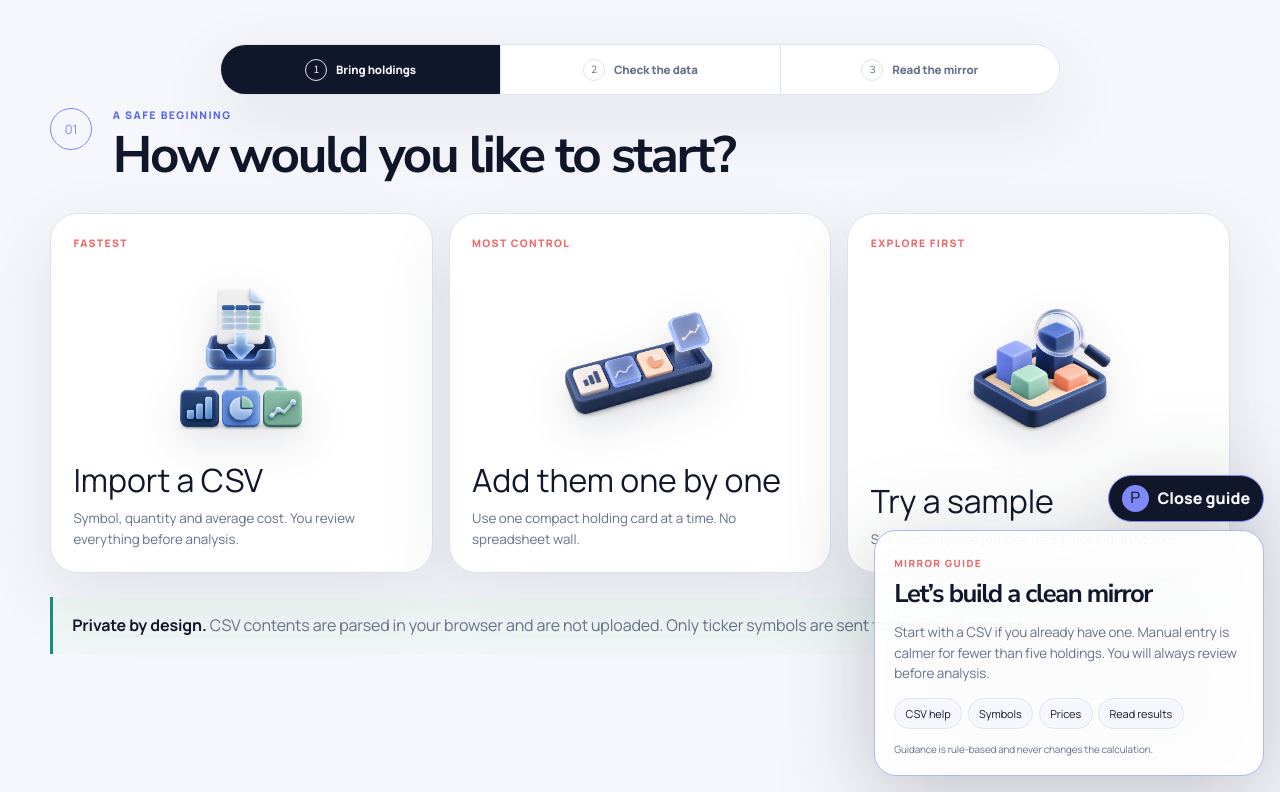
it: Money Mirror journey › reviews holdings, refreshes Yahoo prices, and reveals a concentration read
(page scrolled)
Step 1. Click the button "Try a sample" → x=1039, y=393, box [847, 213, 1230, 573]
(page scrolled)
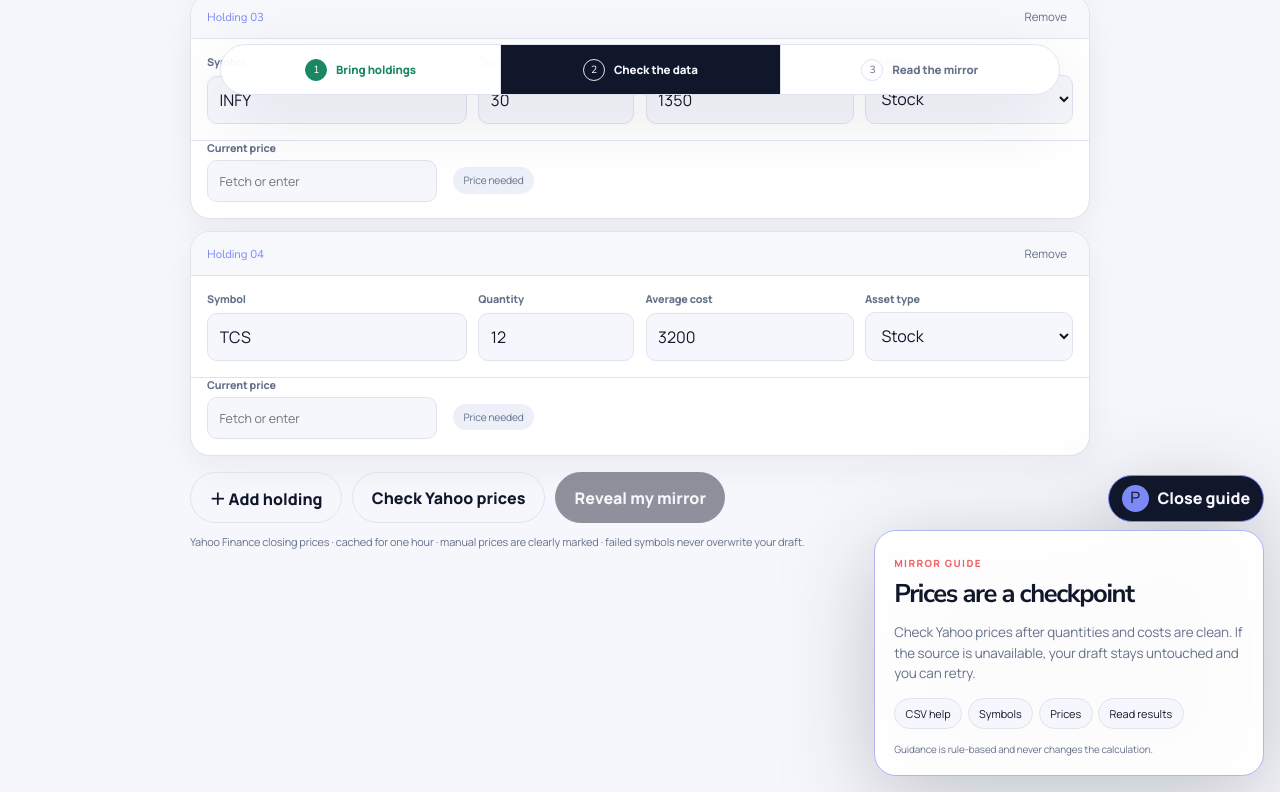
Step 2. Click the button "Check Yahoo prices" → x=448, y=498, box [352, 472, 545, 523]
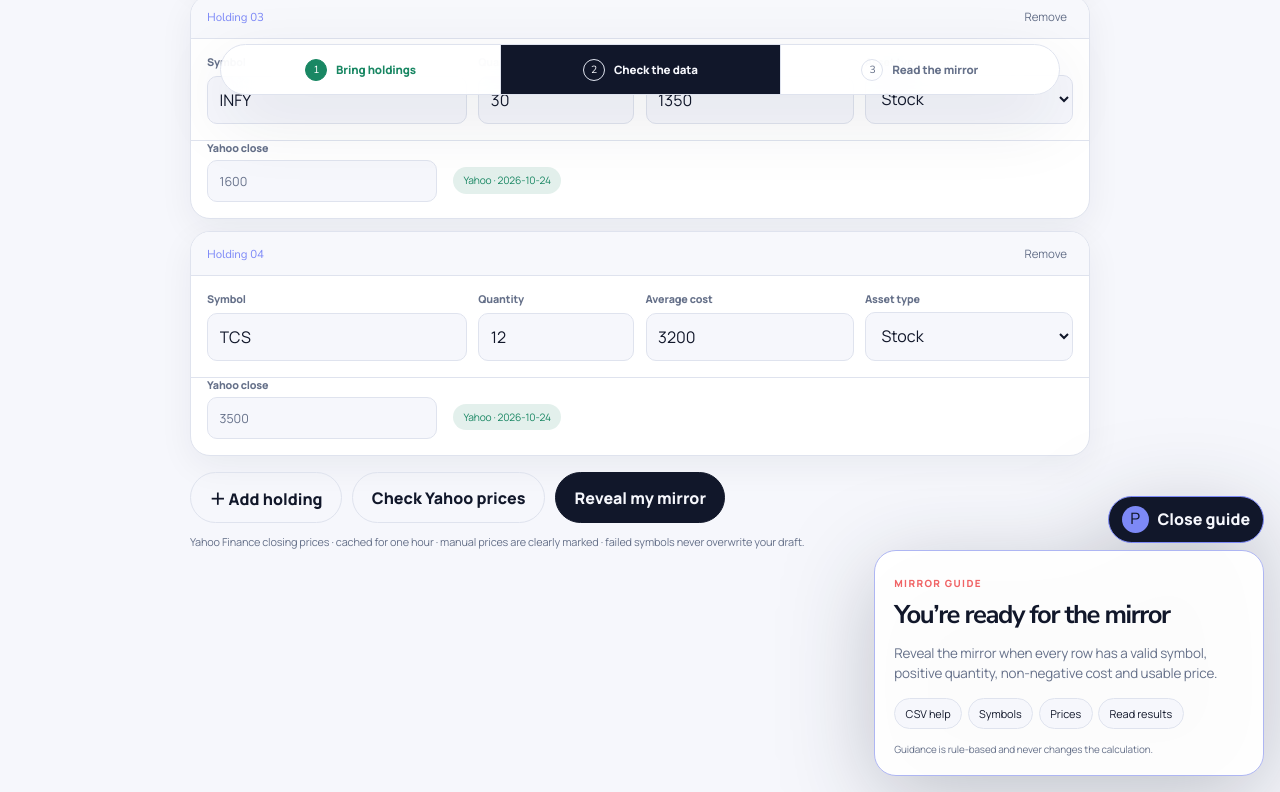
Expected: the text "Yahoo · 2026-10-24" is shown 4 times
Expected: the button "Reveal my mirror" is enabled
Step 3. Click the button "Reveal my mirror" → x=640, y=498, box [555, 472, 725, 523]
(page scrolled)
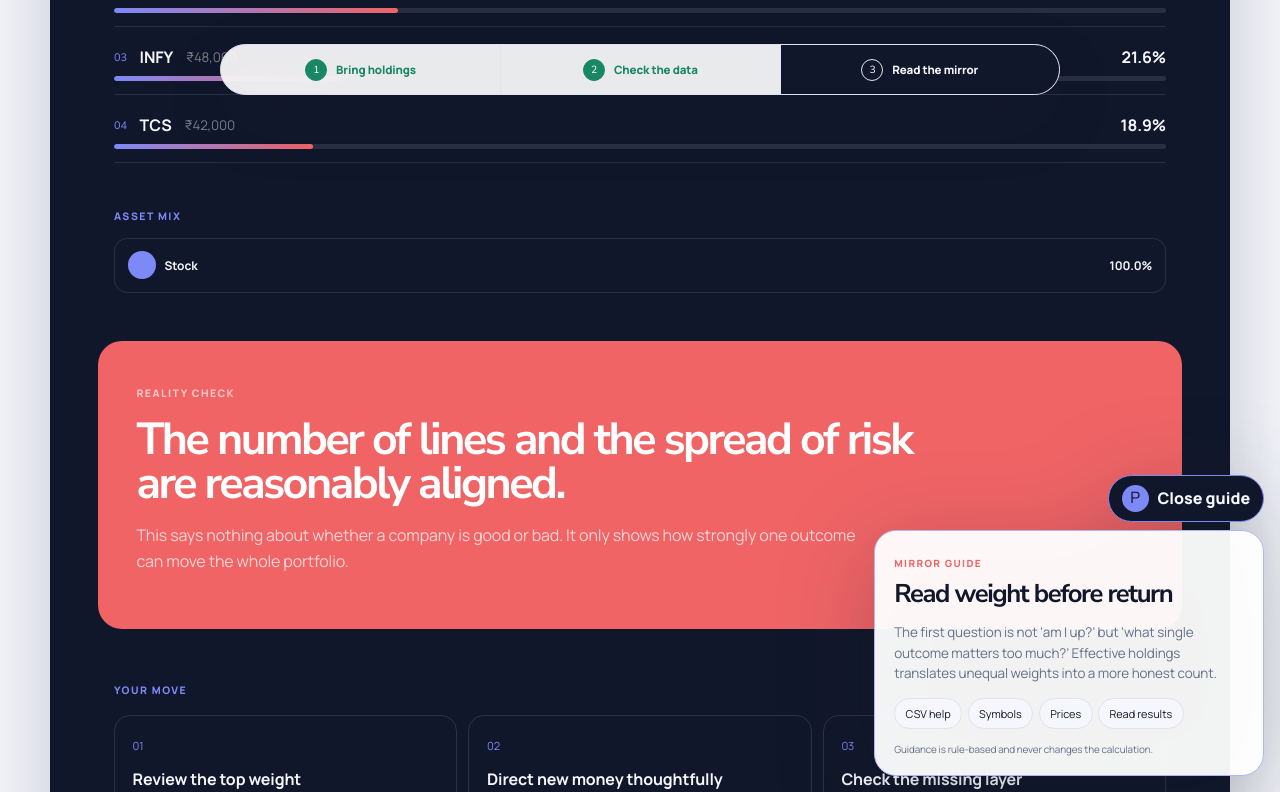
Expected: the text "Reality Check" is shown, [136, 386, 235, 400]
